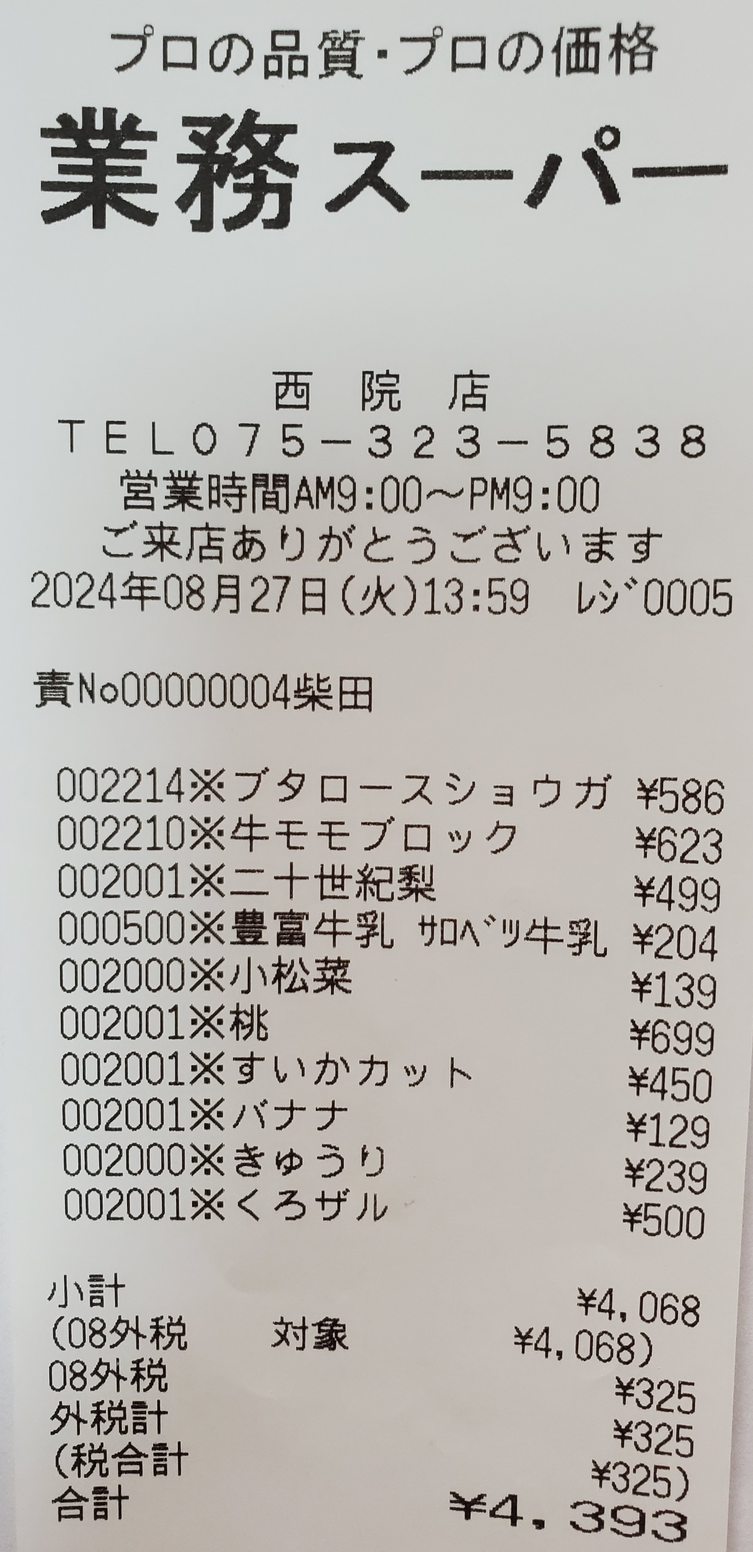Date: (15, 558, 340, 627)
Shopname: (29, 90, 753, 244)
Telnum: (186, 405, 719, 469)
Totalpay: (34, 1485, 712, 1543)
